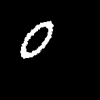chain: (21, 21, 52, 57)
